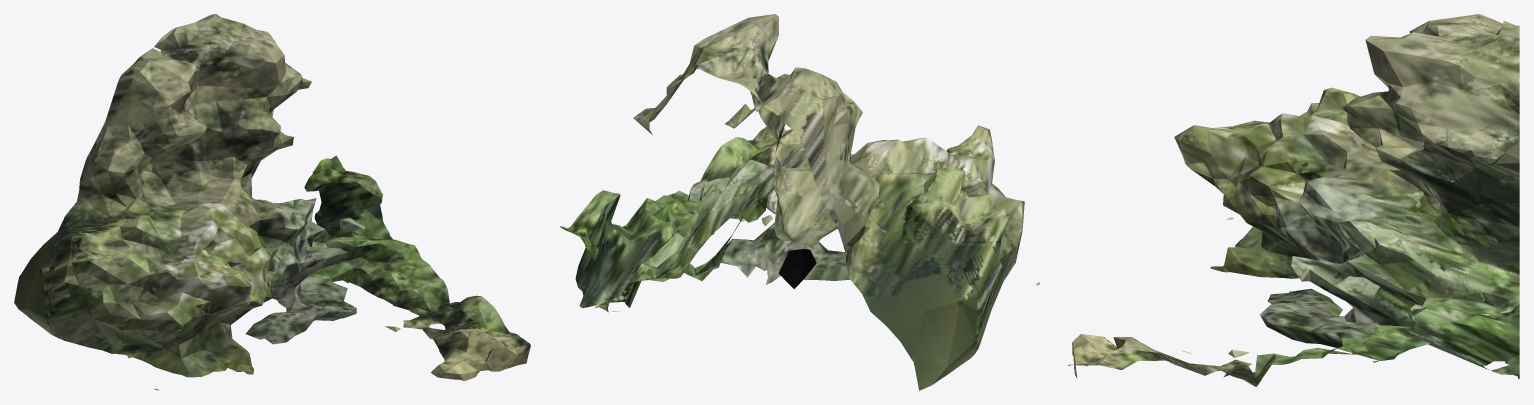
3 renders of one model, left to right at view 1: azimuth 30°, elevation 25°; view 2: azimuth 150°, elevation 25°; view 3: azimuth 270°, elevation 25°, orthographic. The views are drawn at different scales.
Bounding box in the file's own units: 20.87 × 14.63 × 21.04.
3 materials, 3 textured.
